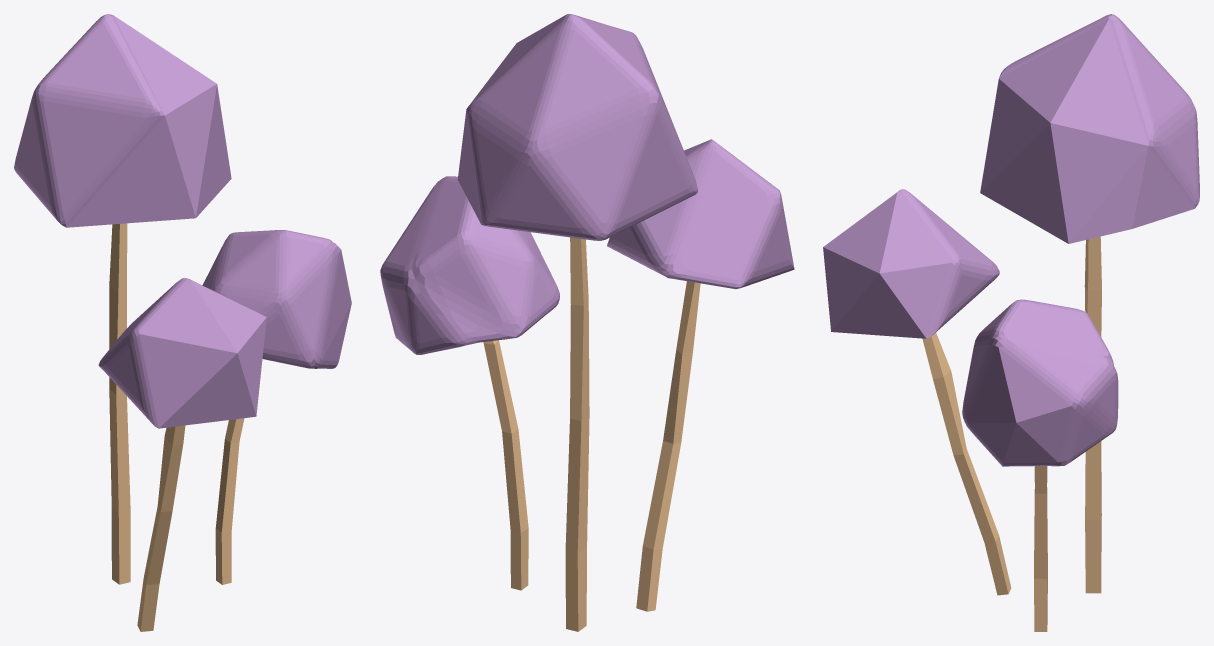
Rendered from groupMushrooms.glb.
The picture shows the model from 3 angles, left to right: view 1: azimuth 30°, elevation 25°; view 2: azimuth 150°, elevation 25°; view 3: azimuth 270°, elevation 25°; orthographic projection. The views are drawn at different scales.
Parts seen in each view (by area): view 1: Icosphere.005, Cube.001; view 2: Icosphere.005, Cube.001; view 3: Icosphere.005, Cube.001.
Part boxes in pixels (x1,y1,x2,y2): Icosphere.005: (14, 14, 351, 428); Cube.001: (109, 223, 244, 631); Icosphere.005: (380, 14, 794, 354); Cube.001: (483, 237, 700, 631); Icosphere.005: (823, 14, 1199, 466); Cube.001: (922, 236, 1101, 631).
Size of the model in its own units: 0.2748 by 0.5354 by 0.3123.
